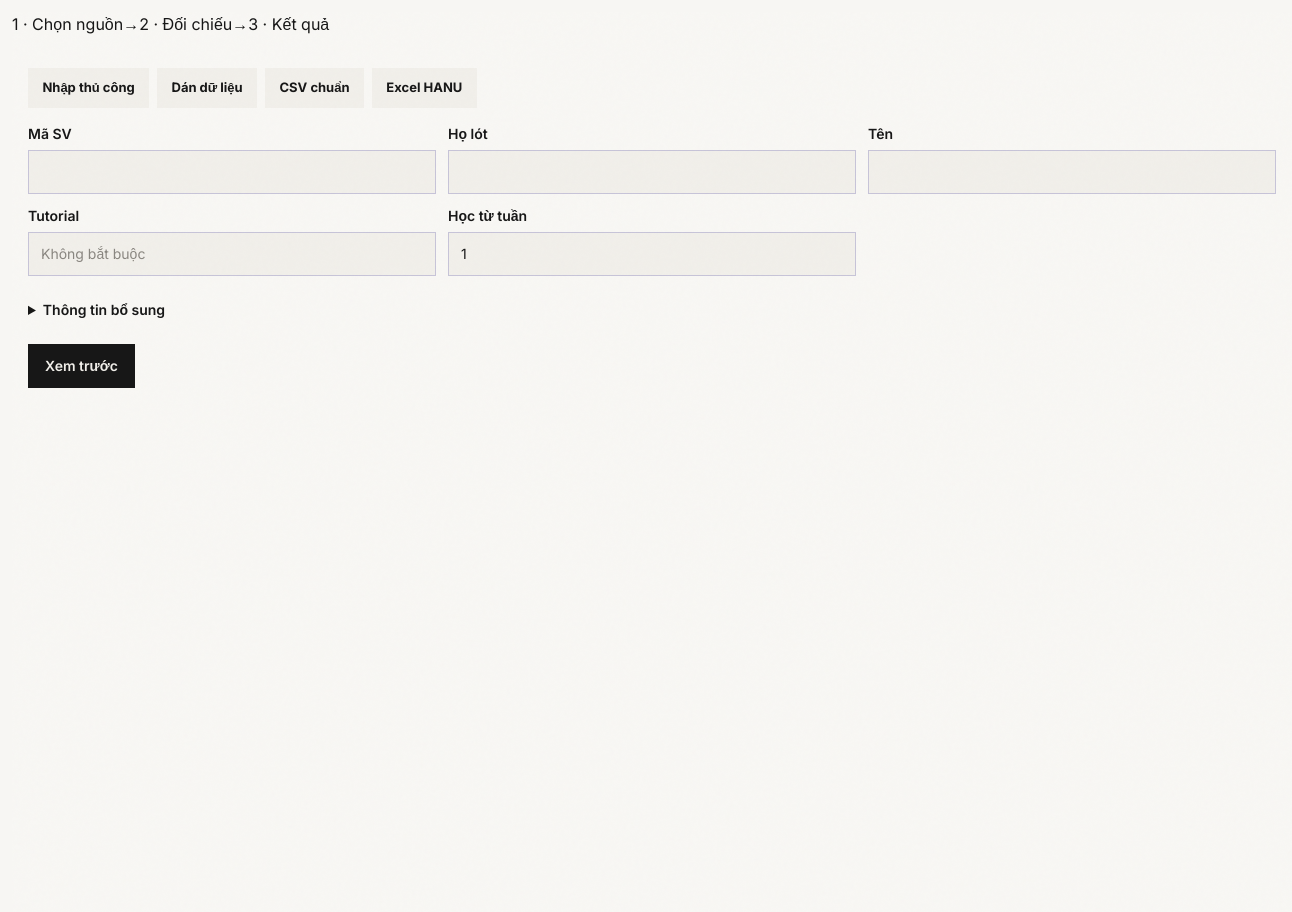
StudentIntakeWorkspace › previews pasted sample data through the shared preview endpoint
Click the tab "Dán dữ liệu" at (207, 88), box [157, 68, 257, 108]
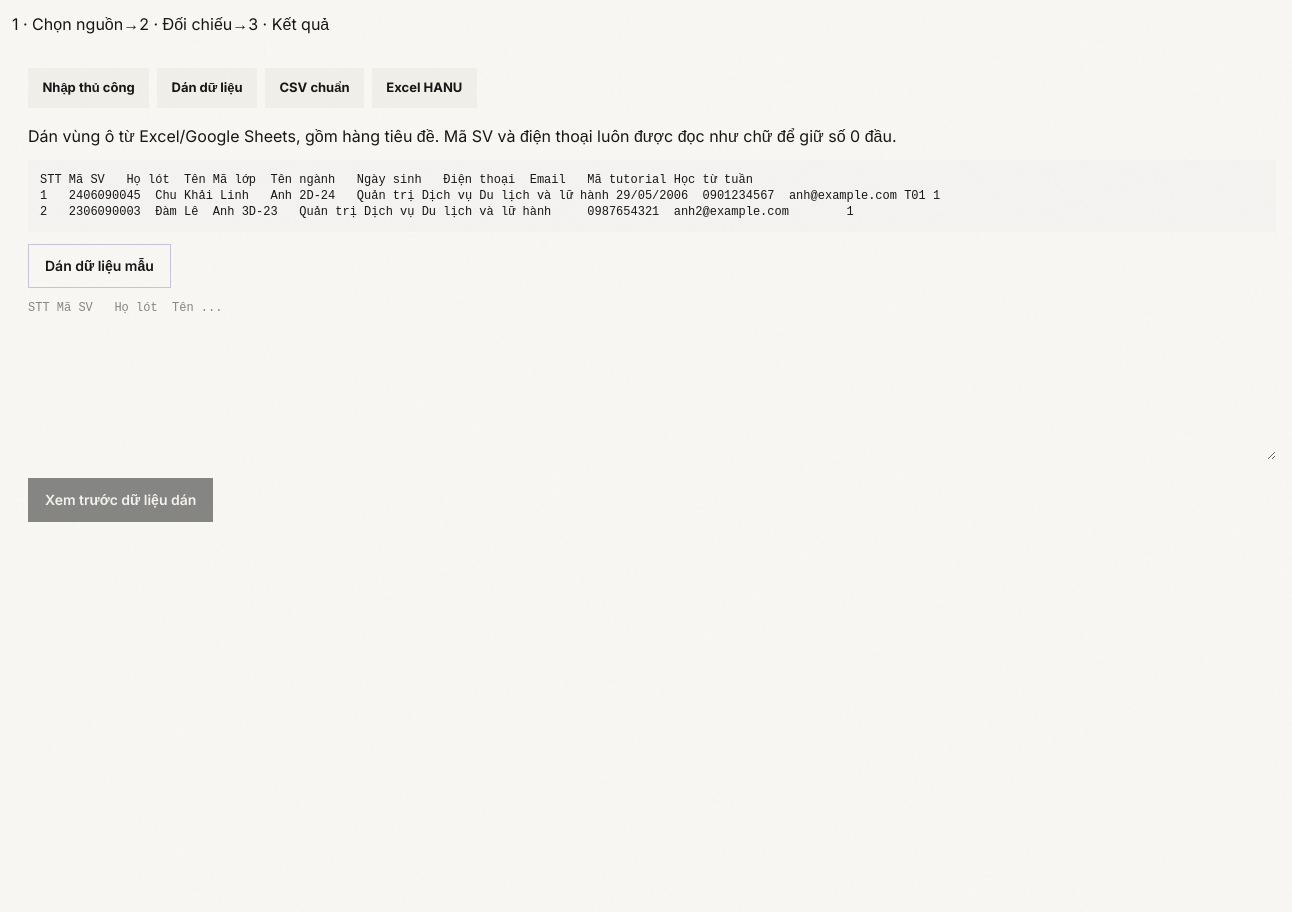
Click the button "Dán dữ liệu mẫu" at (99, 266), box [28, 244, 171, 288]
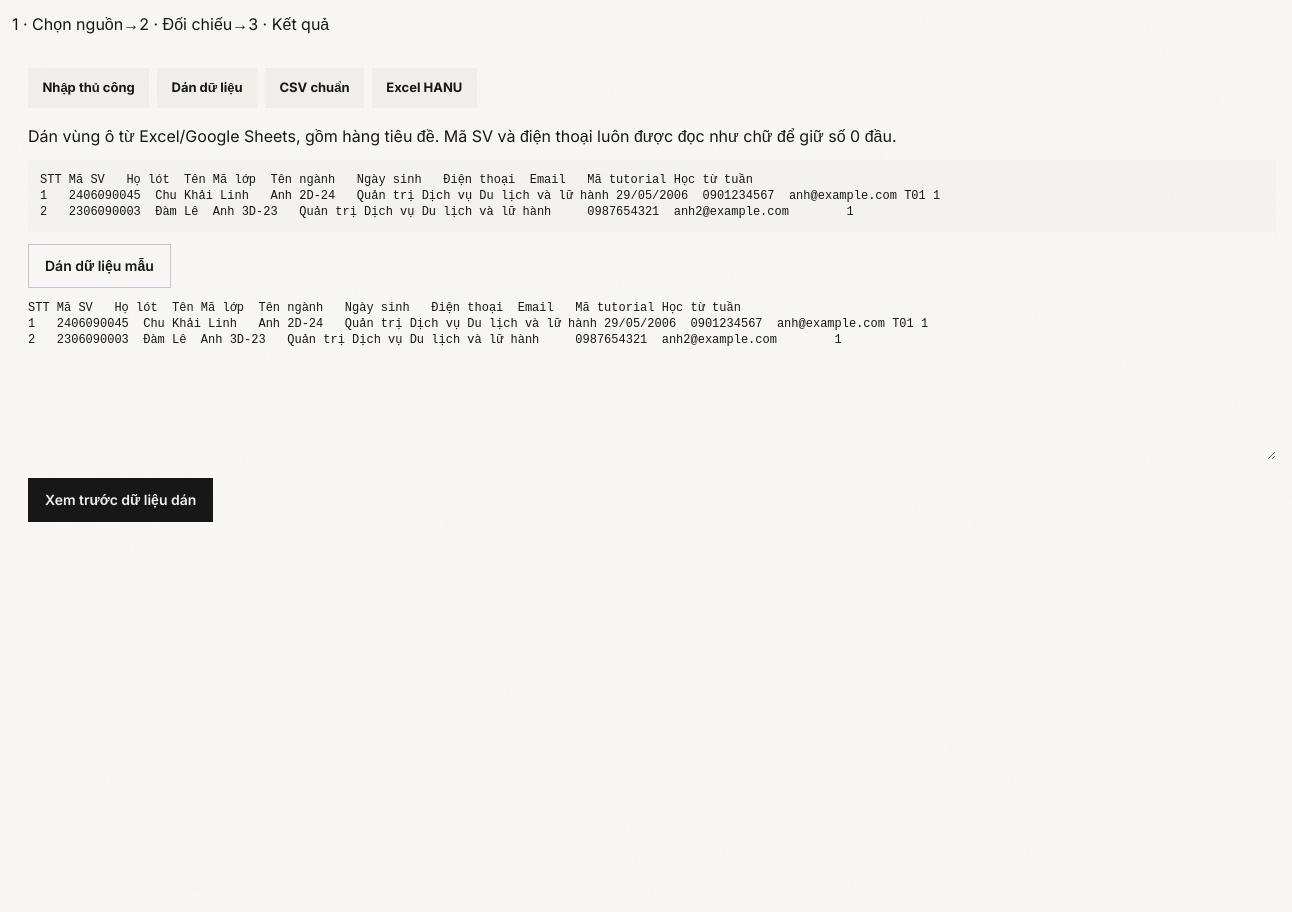
Click the button "Xem trước dữ liệu dán" at (121, 500), box [28, 478, 213, 522]
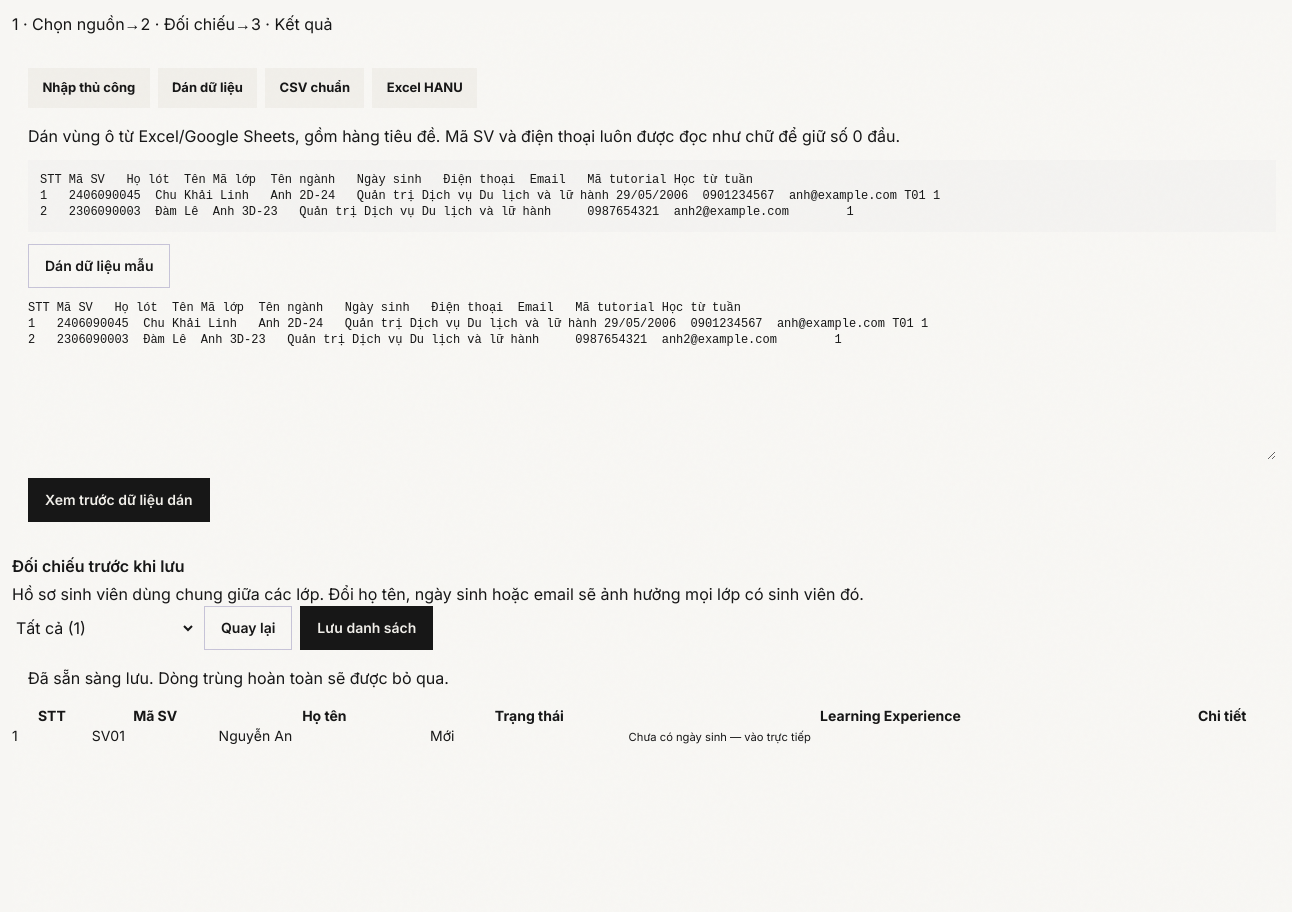
Now the text "SV01" is shown, box [92, 726, 219, 746]
Now the text "Chưa có ngày sinh — vào trực tiếp" is shown, box [629, 730, 811, 744]
